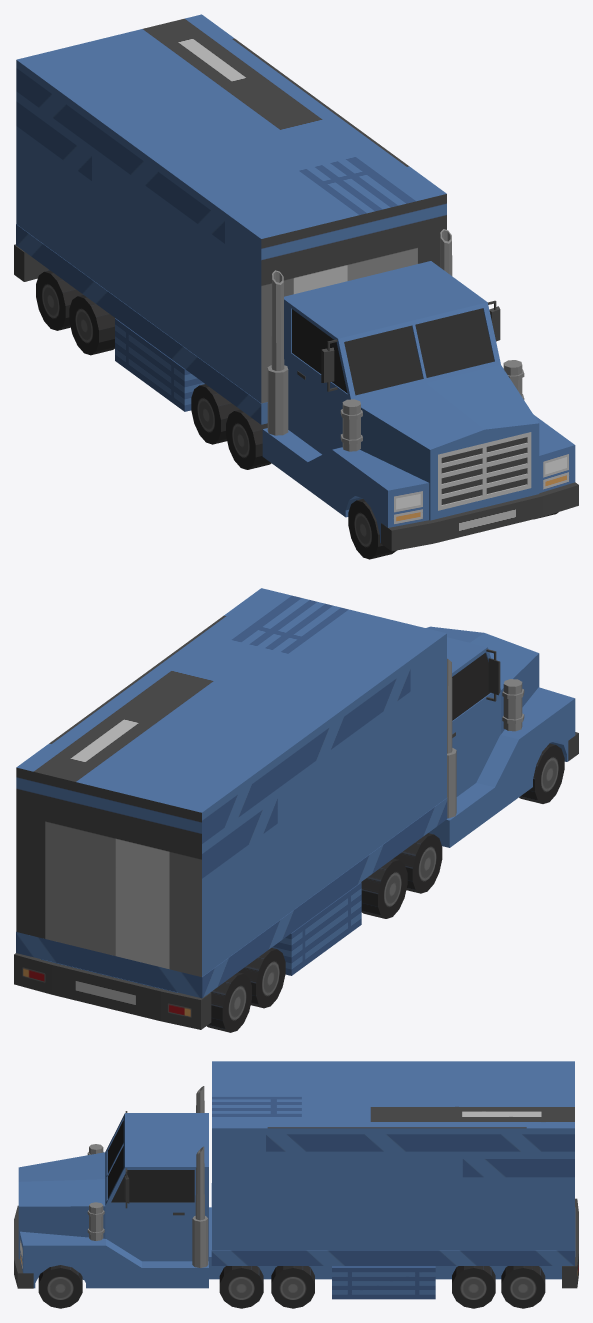
File: truck-container.glb
3 views of the same model, one above another, from view 1: azimuth 30°, elevation 25°; view 2: azimuth 150°, elevation 25°; view 3: azimuth 270°, elevation 25° (orthographic). The views are drawn at different scales.
Parts seen in each view (by area): view 1: SPW_Urban_Props_Container, Body, RR3, RR1, RR2, RR4, FR; view 2: SPW_Urban_Props_Container, Body, RR2, RR4, RR1, RR3, FR; view 3: SPW_Urban_Props_Container, Body, RL4, RL1, RL3, RL2, FL.
Boxes of the visible parts, left/top/right/bottom form: SPW_Urban_Props_Container: left=16, top=14, right=446, bottom=403; Body: left=14, top=224, right=578, bottom=551; RR3: left=69, top=294, right=114, bottom=355; RR1: left=226, top=409, right=271, bottom=469; RR2: left=191, top=384, right=239, bottom=444; RR4: left=36, top=270, right=82, bottom=330; FR: left=348, top=499, right=396, bottom=559; SPW_Urban_Props_Container: left=16, top=588, right=446, bottom=976; Body: left=14, top=626, right=578, bottom=1029; RR2: left=361, top=858, right=407, bottom=918; RR4: left=207, top=972, right=251, bottom=1032; RR1: left=393, top=833, right=442, bottom=893; RR3: left=238, top=948, right=285, bottom=1008; FR: left=519, top=743, right=564, bottom=803; SPW_Urban_Props_Container: left=212, top=1061, right=574, bottom=1249; Body: left=14, top=1086, right=578, bottom=1299; RL4: left=501, top=1266, right=545, bottom=1308; RL1: left=219, top=1266, right=263, bottom=1308; RL3: left=452, top=1266, right=495, bottom=1308; RL2: left=271, top=1266, right=314, bottom=1308; FL: left=38, top=1265, right=82, bottom=1308.
Size of the model in its own units: 3.94 by 4.89 by 13.88.
2 materials, 2 textured.
